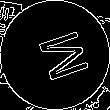M_W: (24, 25, 86, 85)
